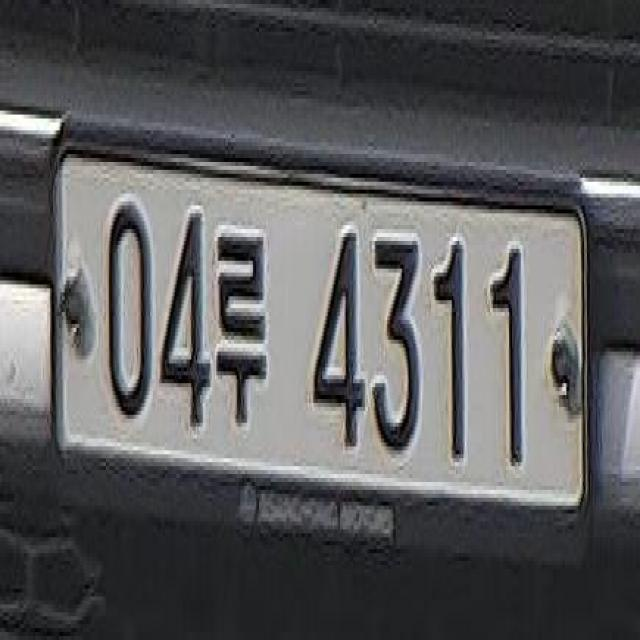illegal_plate: (46, 135, 604, 552)
